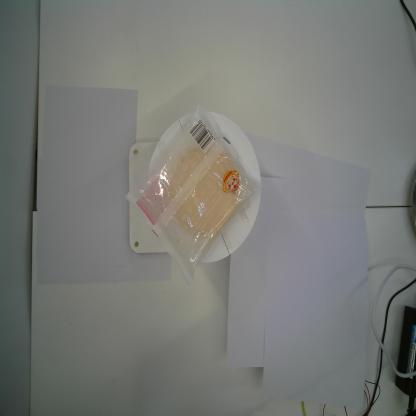Dessert: (126, 104, 262, 286)
